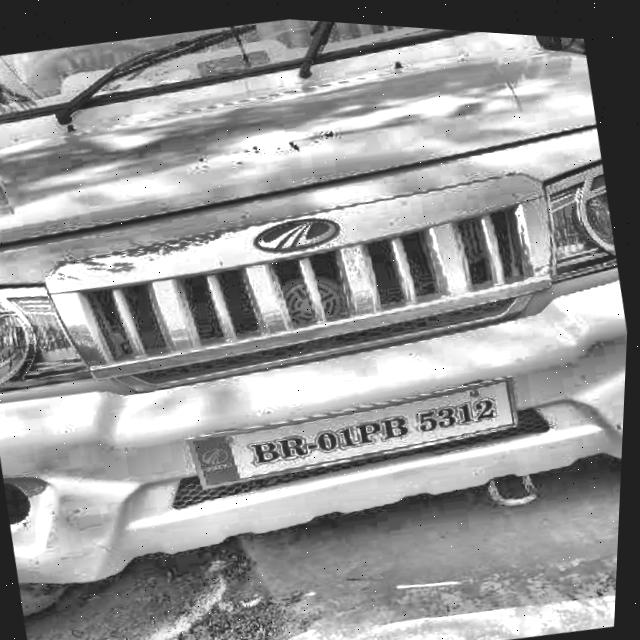light_vehicle: (0, 0, 640, 621)
